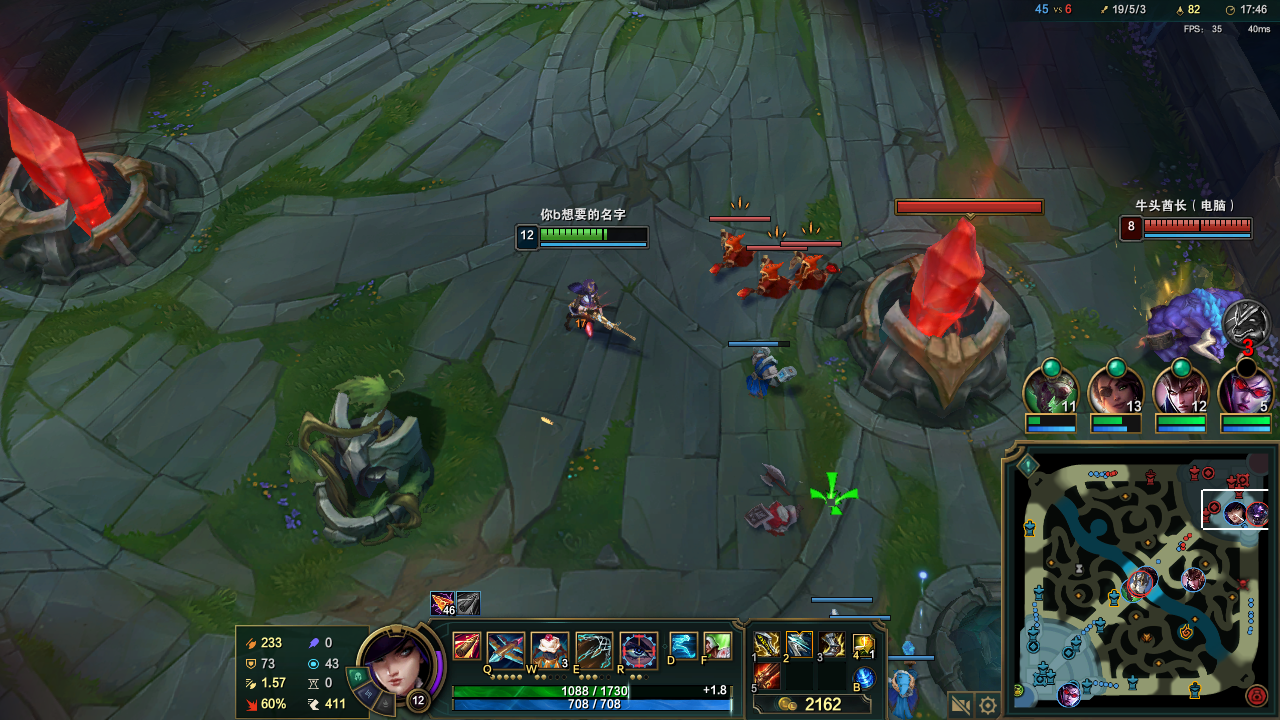DFSJ: (855, 202, 1053, 412)
DFXB: (796, 254, 838, 291), (713, 232, 753, 270), (752, 262, 784, 295)
DFYX: (1143, 217, 1252, 231)
WFXB: (740, 348, 789, 397), (893, 674, 923, 714)
